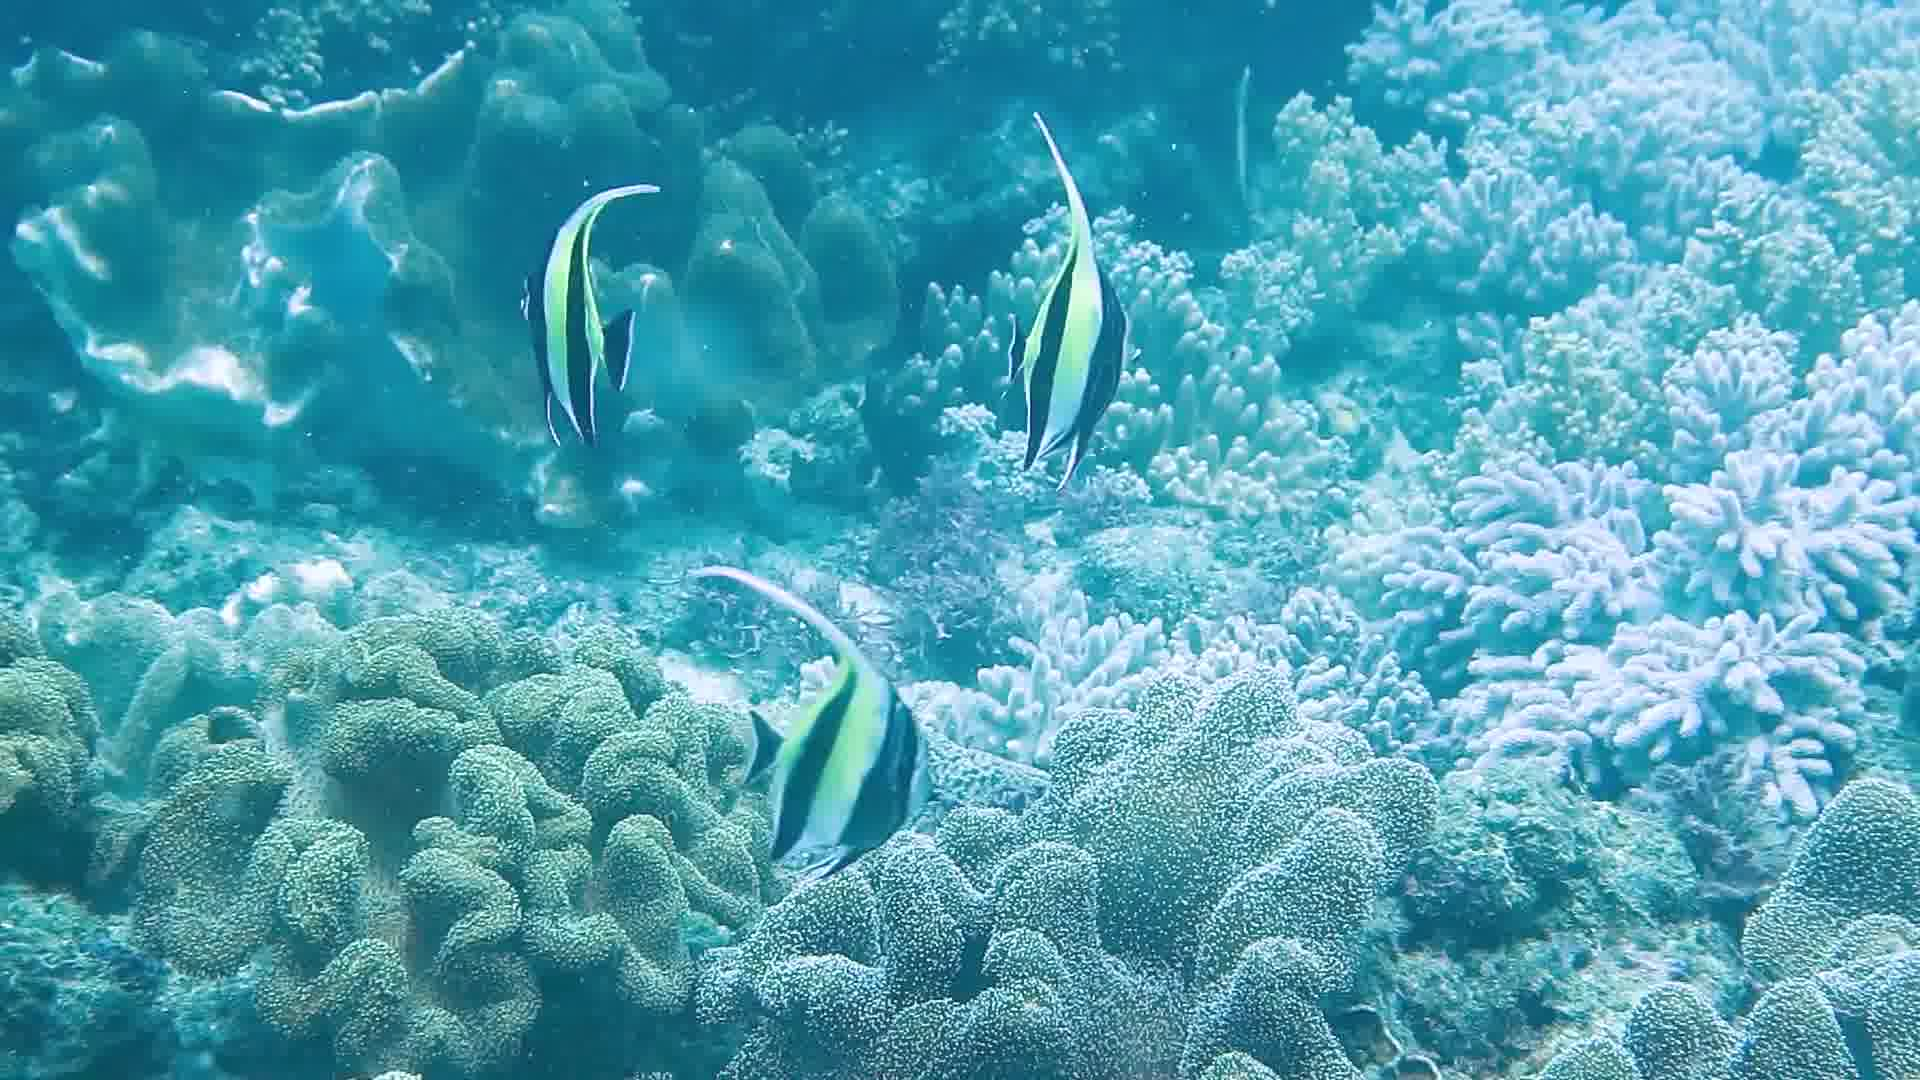Zanclus cornutus: (705, 584, 935, 873), (1000, 237, 1171, 487), (514, 202, 665, 472)
